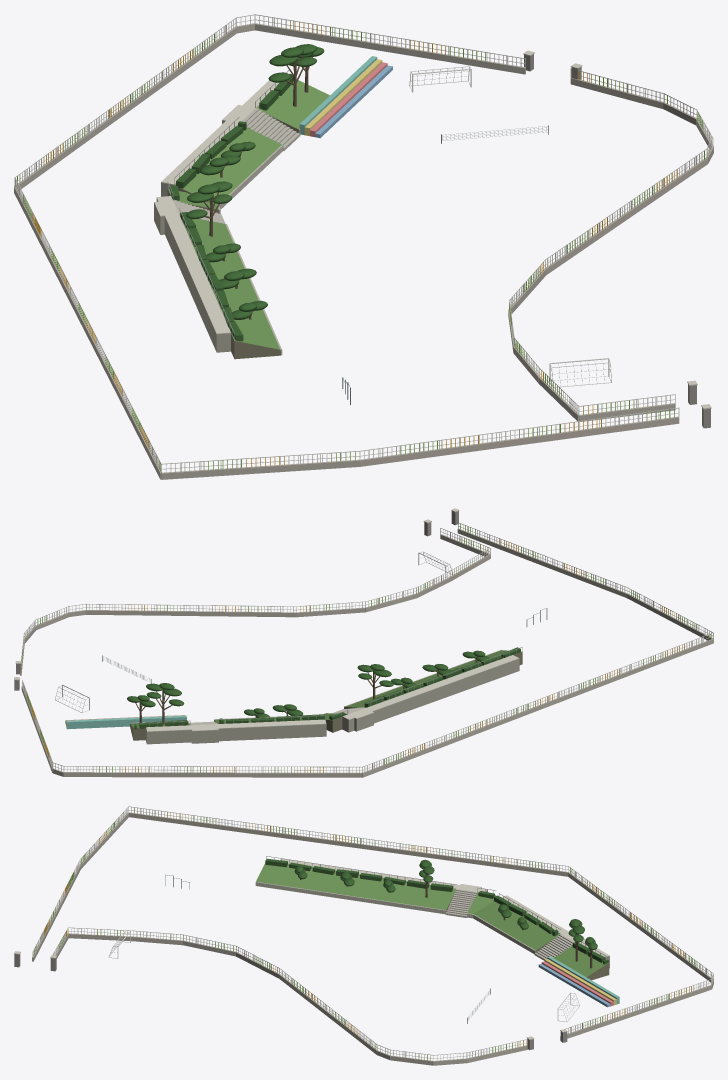
3 views of the same model, one above another, from view 1: azimuth 30°, elevation 25°; view 2: azimuth 150°, elevation 25°; view 3: azimuth 270°, elevation 25° (orthographic). The views are drawn at different scales.
Visible parts, largest first — view 1: site-wall-concrete, site-garden-slope, site-fence, site-terrace-deck, site-garden-pruned-trees, site-fence-white, site-garden-hedge, site-fence-green, site-fence-yellow, site-landing-front-support, site-stairs, site-garden-soil-side (+3 smaller); view 2: site-wall-concrete, site-landing-front-support, site-fence, site-terrace-deck, site-garden-pruned-trees, site-garden-hedge, site-fence-white, site-fence-green, site-fence-yellow, site-coloured-stand-0, site-garden-slope, site-terrace-rail (+1 smaller); view 3: site-wall-concrete, site-garden-slope, site-fence, site-garden-hedge, site-fence-white, site-fence-green, site-garden-pruned-trees, site-garden-retaining-wall, site-terrace-deck, site-stairs, site-fence-yellow, site-terrace-rail.
Part boxes in pixels (x1=…): site-wall-concrete: x1=14, y1=23, x2=713, y2=479; site-garden-slope: x1=168, y1=80, x2=329, y2=349; site-fence: x1=14, y1=14, x2=713, y2=473; site-terrace-deck: x1=154, y1=80, x2=278, y2=334; site-garden-pruned-trees: x1=186, y1=44, x2=324, y2=319; site-fence-white: x1=15, y1=15, x2=712, y2=472; site-garden-hedge: x1=170, y1=73, x2=293, y2=341; site-fence-green: x1=15, y1=27, x2=704, y2=471; site-fence-yellow: x1=32, y1=21, x2=677, y2=467; site-landing-front-support: x1=154, y1=120, x2=230, y2=352; site-stairs: x1=173, y1=108, x2=300, y2=223; site-garden-soil-side: x1=167, y1=112, x2=298, y2=359; site-wall-concrete: x1=20, y1=528, x2=713, y2=777; site-landing-front-support: x1=146, y1=658, x2=519, y2=744; site-fence: x1=20, y1=522, x2=713, y2=772; site-terrace-deck: x1=146, y1=655, x2=519, y2=731; site-garden-pruned-trees: x1=127, y1=650, x2=489, y2=717; site-garden-hedge: x1=134, y1=647, x2=520, y2=729; site-fence-white: x1=22, y1=529, x2=711, y2=773; site-fence-green: x1=21, y1=524, x2=713, y2=772; site-fence-yellow: x1=20, y1=538, x2=684, y2=772; site-coloured-stand-0: x1=66, y1=715, x2=186, y2=729; site-garden-slope: x1=130, y1=650, x2=521, y2=727; site-terrace-rail: x1=133, y1=647, x2=522, y2=726; site-wall-concrete: x1=32, y1=812, x2=713, y2=1065; site-garden-slope: x1=256, y1=863, x2=608, y2=977; site-fence: x1=32, y1=806, x2=713, y2=1060; site-garden-hedge: x1=265, y1=858, x2=608, y2=964; site-fence-white: x1=38, y1=808, x2=713, y2=1060; site-fence-green: x1=32, y1=807, x2=699, y2=1060; site-garden-pruned-trees: x1=294, y1=859, x2=597, y2=950; site-garden-retaining-wall: x1=255, y1=881, x2=535, y2=954; site-terrace-deck: x1=280, y1=858, x2=609, y2=957; site-stairs: x1=445, y1=889, x2=574, y2=960; site-fence-yellow: x1=44, y1=812, x2=691, y2=1047; site-terrace-rail: x1=266, y1=856, x2=608, y2=957.
Bounding box in the file's own units: 108 × 9.65 × 129.
